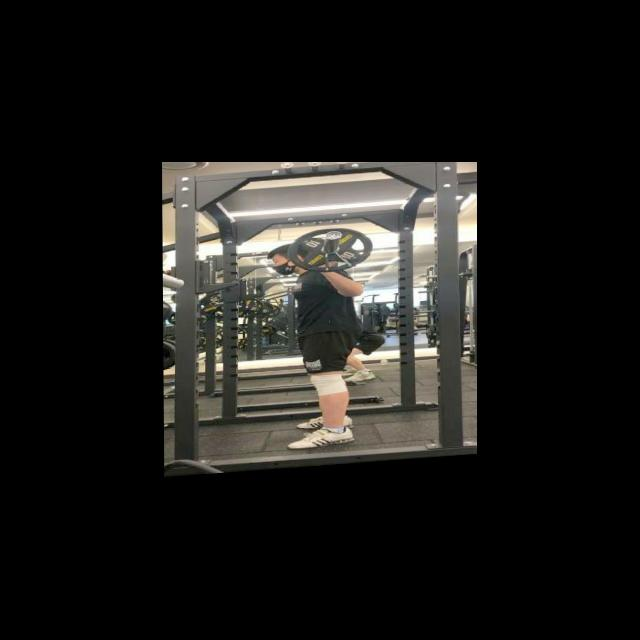barbell: (285, 227, 374, 279)
